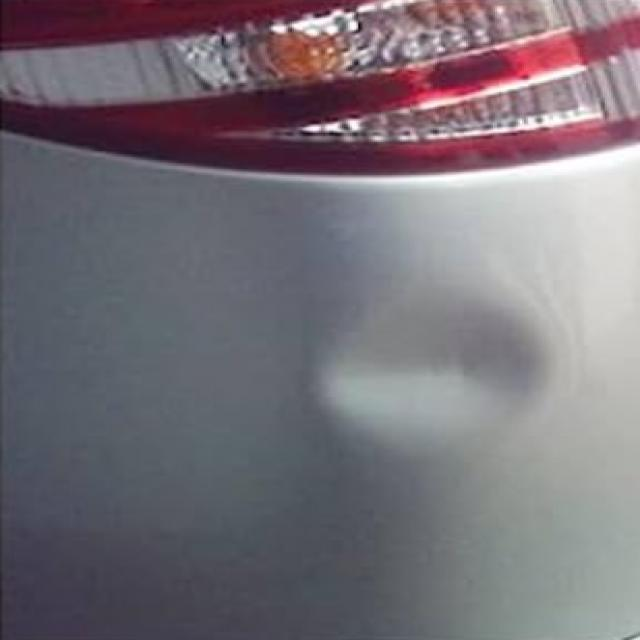dents: (327, 298, 582, 458)
